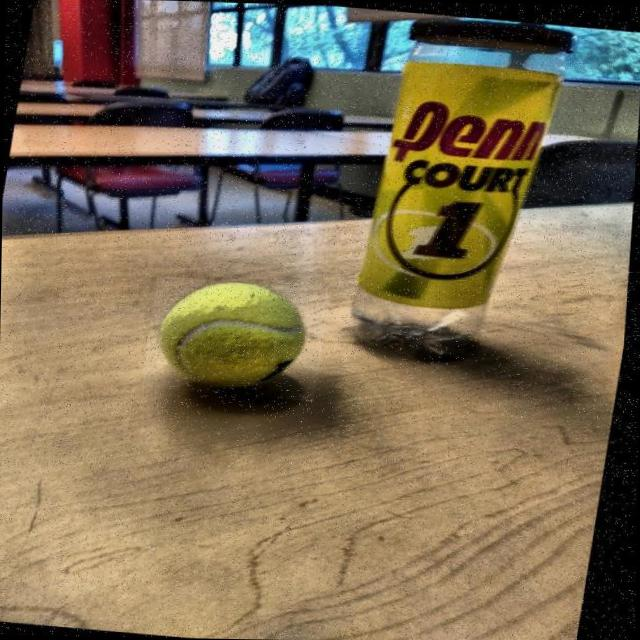Tennis Ball: (143, 275, 336, 402)
